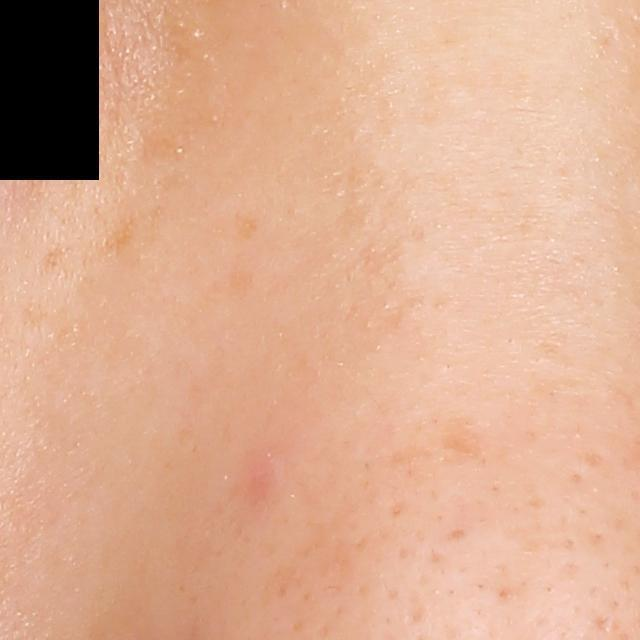melasma: (102, 213, 146, 259), (33, 248, 67, 280), (233, 209, 262, 241)
